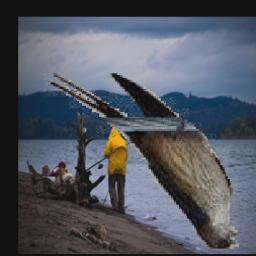Swallow: (45, 74, 240, 250)
